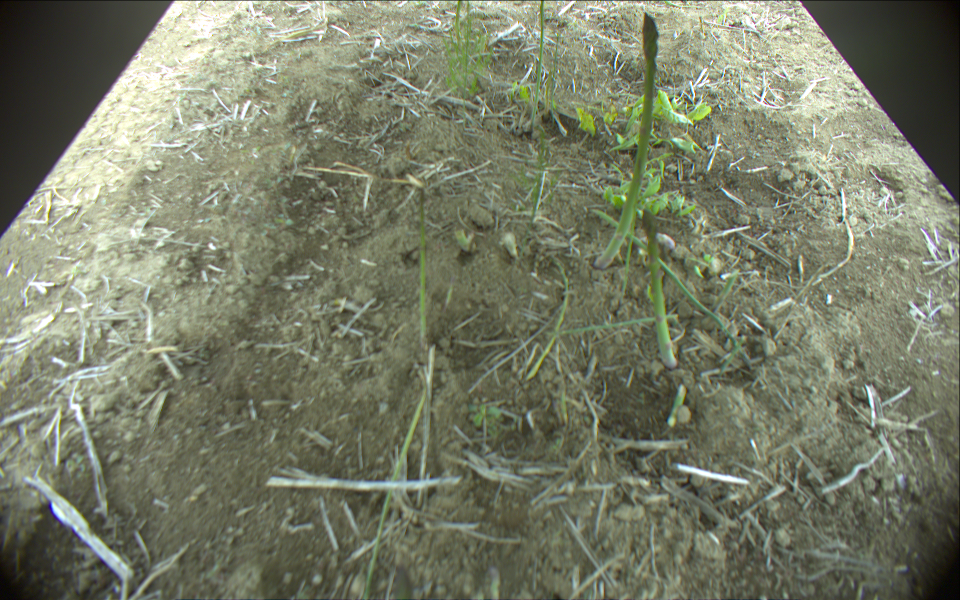aspa: (589, 11, 659, 271), (524, 250, 573, 383), (641, 208, 681, 369), (412, 182, 432, 352), (530, 1, 546, 127), (454, 1, 463, 50)
